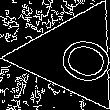O_NW: (35, 25, 109, 87)
